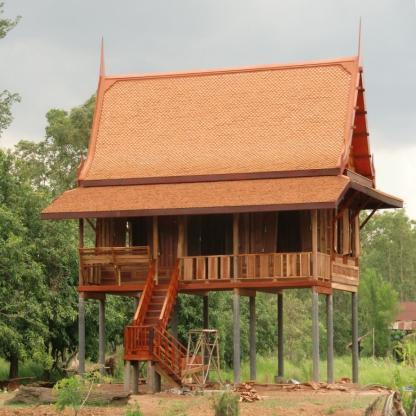Building Outline: (40, 17, 403, 394)
Dont: (181, 329, 225, 395)
Facade: (317, 169, 359, 383)
Floor Slab: (318, 278, 358, 292)
Pillar: (352, 292, 358, 383), (327, 295, 333, 384), (312, 294, 318, 383), (277, 294, 283, 383), (78, 298, 84, 387), (99, 299, 105, 388), (135, 297, 141, 386), (203, 296, 209, 384), (234, 295, 240, 383), (172, 298, 178, 386), (249, 297, 255, 384)
Raised Floor: (317, 194, 359, 287)
Roof: (40, 16, 403, 220)
Window: (348, 213, 356, 258), (335, 210, 343, 254)
